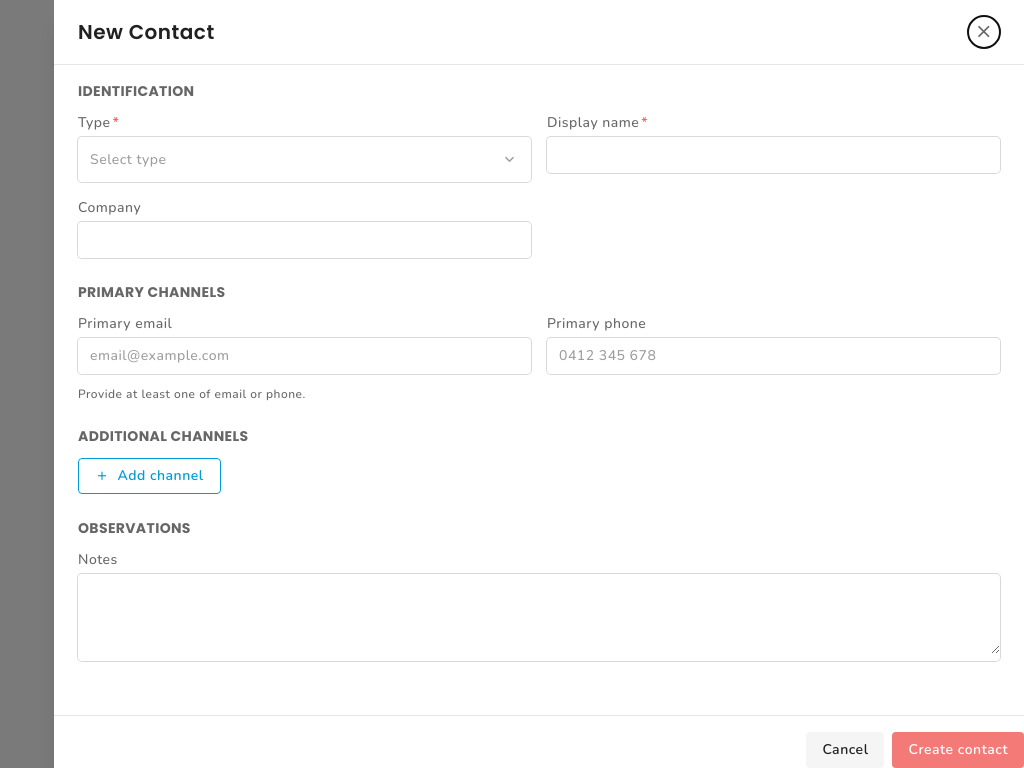
it: ContactFormDrawer — per-row channel errors › reindexes row errors when an earlier channel is removed
The image size is (1024, 768).
Click the button with aria-label "Add additional channel".
click(149, 476)  # box [78,458,220,494]
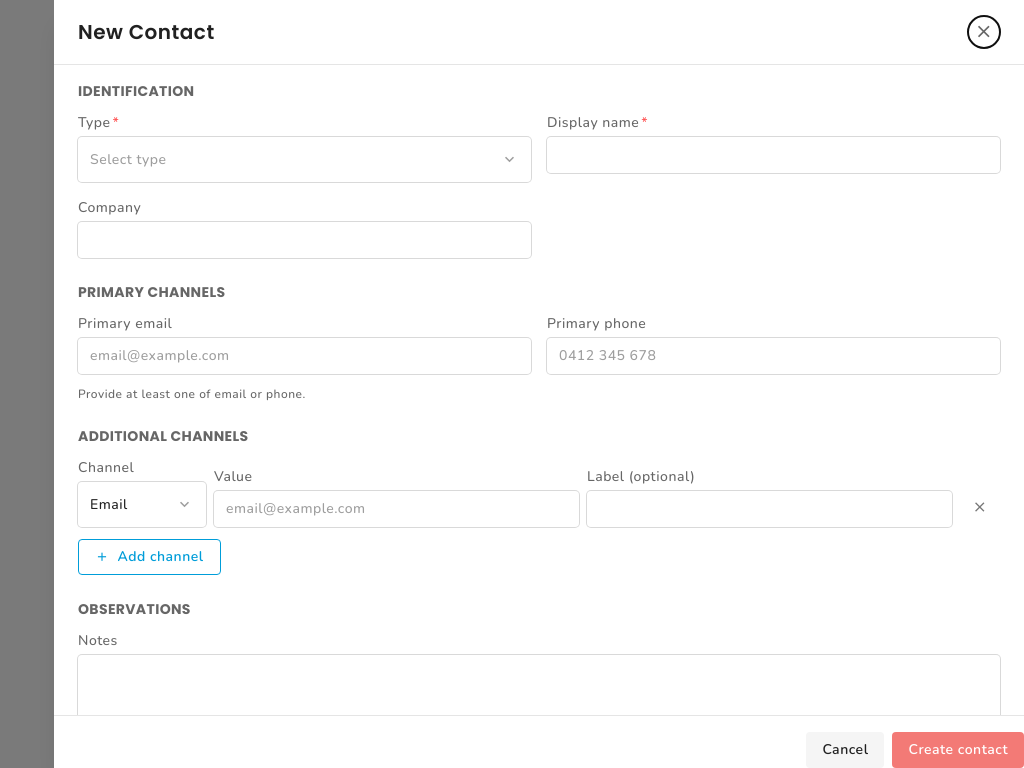
Click the button with aria-label "Add additional channel".
click(149, 557)  # box [78,539,220,575]
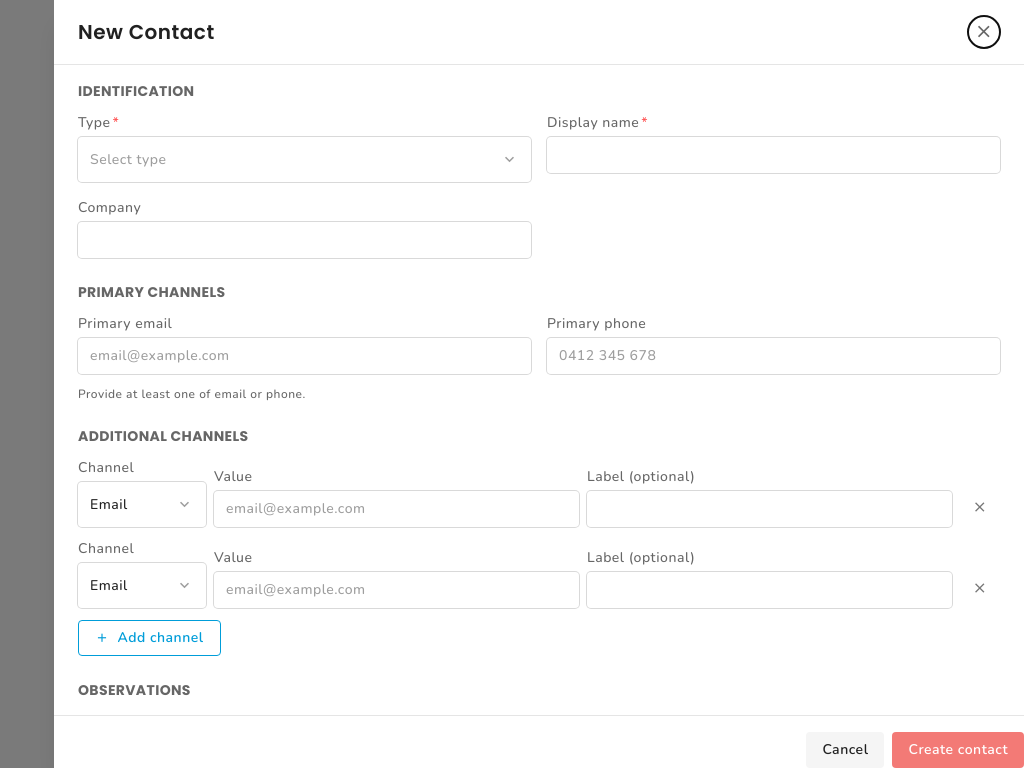
Type "bad" into the field named "Channel 2 value".
click(396, 590); type("bad")  # box [214,572,579,608]
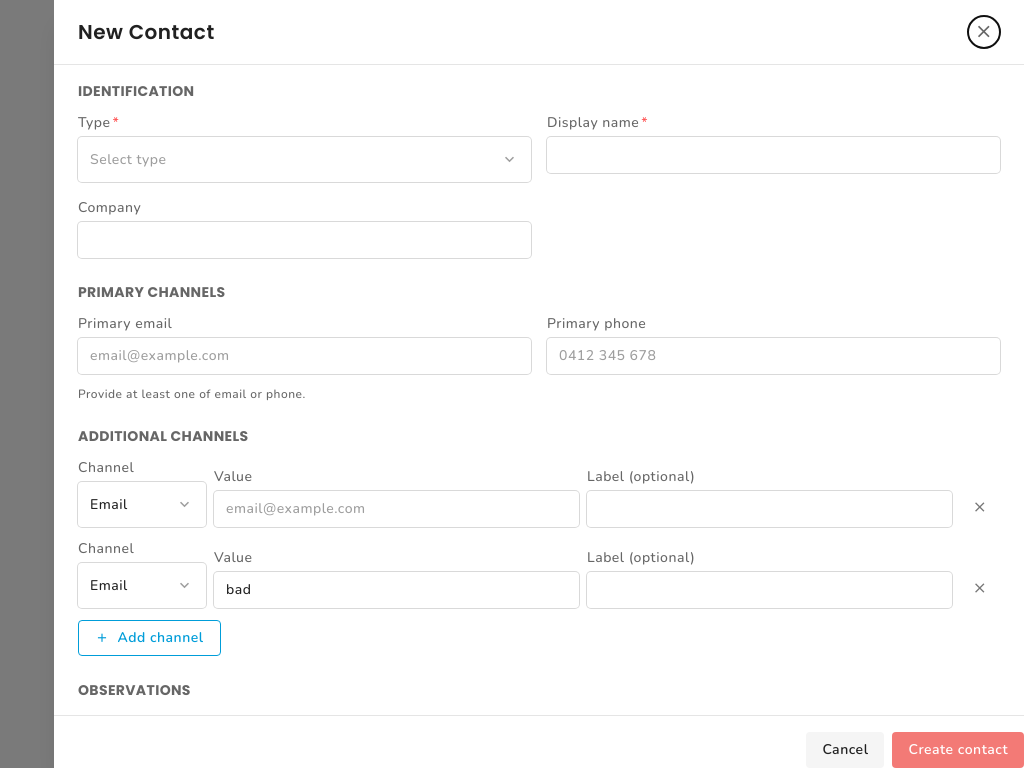
Click the button "Create contact".
click(958, 750)  # box [892,732,1023,767]
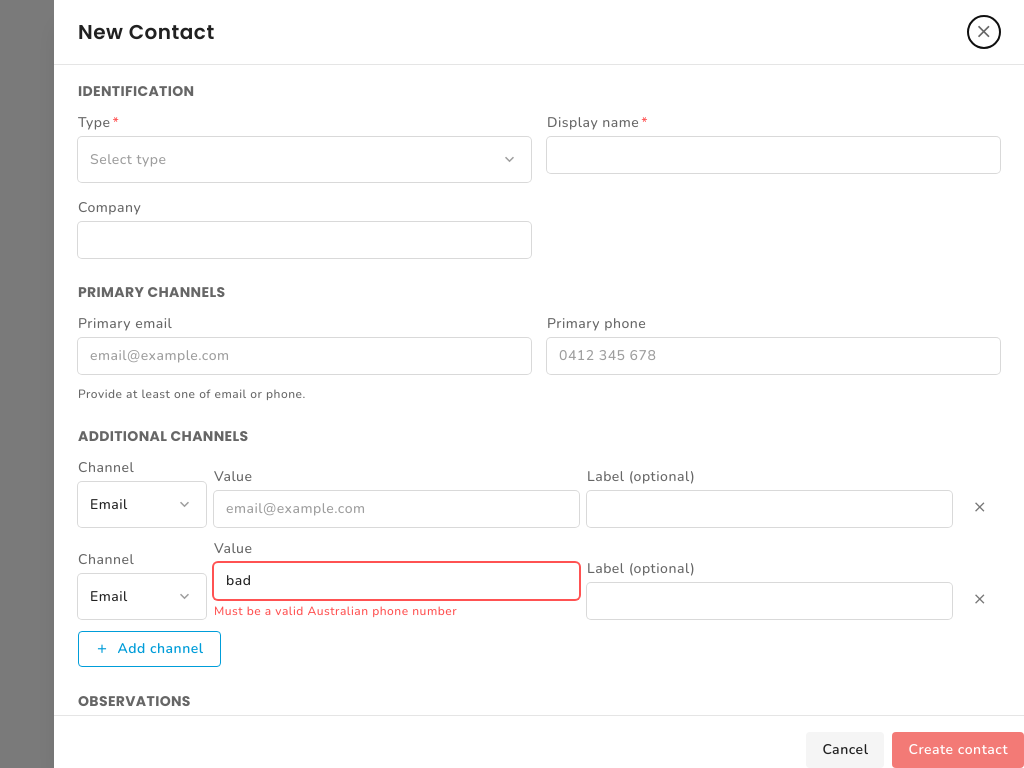
Check: the text "Must be a valid Australian phone number" is shown, box [214,603,457,619]
Click the button named "Remove channel 1".
click(980, 507)  # box [960,487,1000,527]
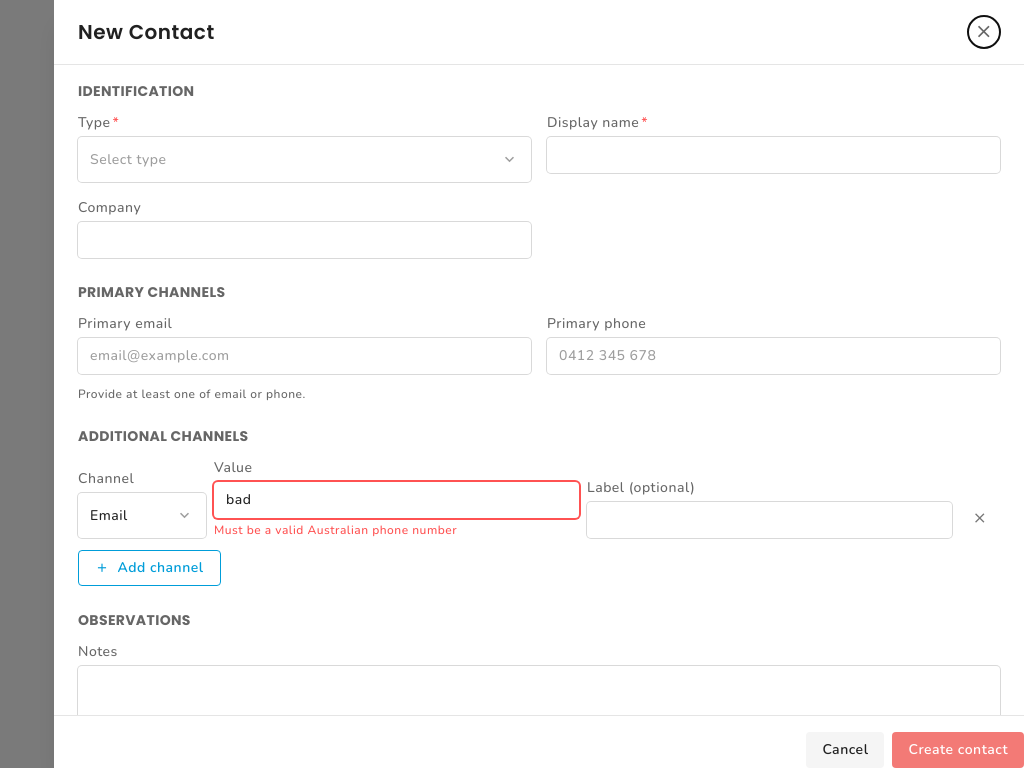
Check: the text "Must be a valid Australian phone number" is shown, box [214,522,457,538]
Check: the field named "Channel 1 value" holds "bad", box [214,482,579,518]
